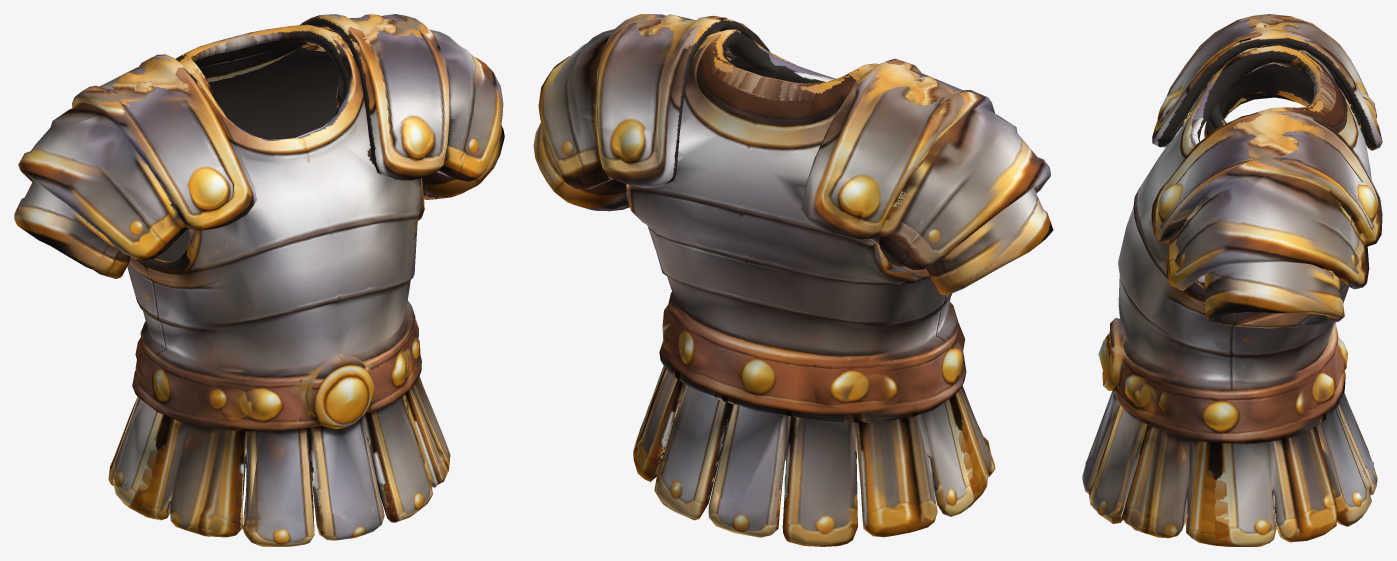
File: armour_segmented.glb
The picture shows the model from 3 angles, left to right: view 1: azimuth 30°, elevation 25°; view 2: azimuth 150°, elevation 25°; view 3: azimuth 270°, elevation 25°; orthographic projection. The views are drawn at different scales.
Parts seen in each view (by area): view 1: geometry_0; view 2: geometry_0; view 3: geometry_0.
Boxes of the visible parts, x1=… form: geometry_0: x1=14, y1=14, x2=504, y2=546; geometry_0: x1=533, y1=14, x2=1053, y2=546; geometry_0: x1=1082, y1=14, x2=1382, y2=546.
Bounding box in the file's own units: 1.98 × 1.72 × 1.13.
Materials: 1 (1 with a texture image).
